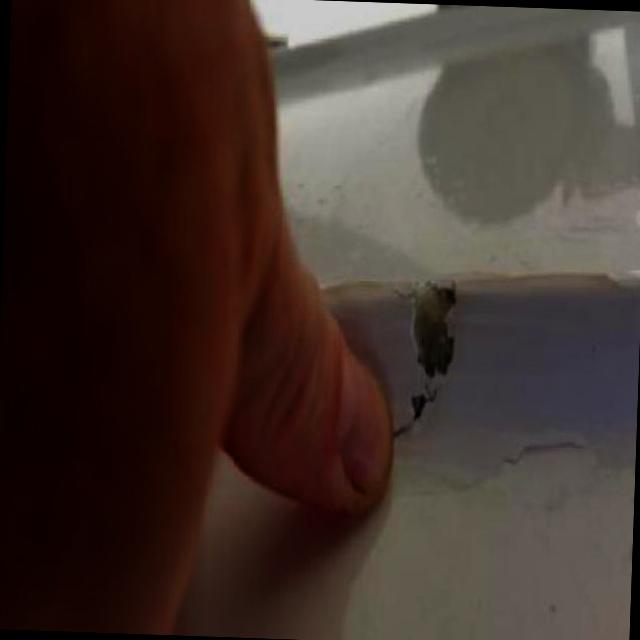crack: (402, 436, 590, 503), (393, 276, 460, 378), (390, 379, 446, 450)
